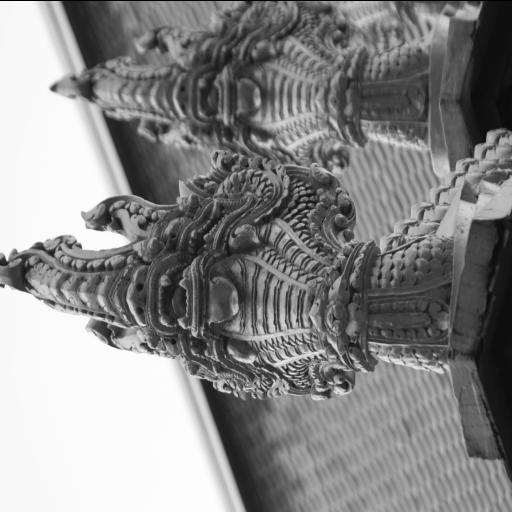ran: (0, 160, 447, 398), (45, 0, 427, 162)
